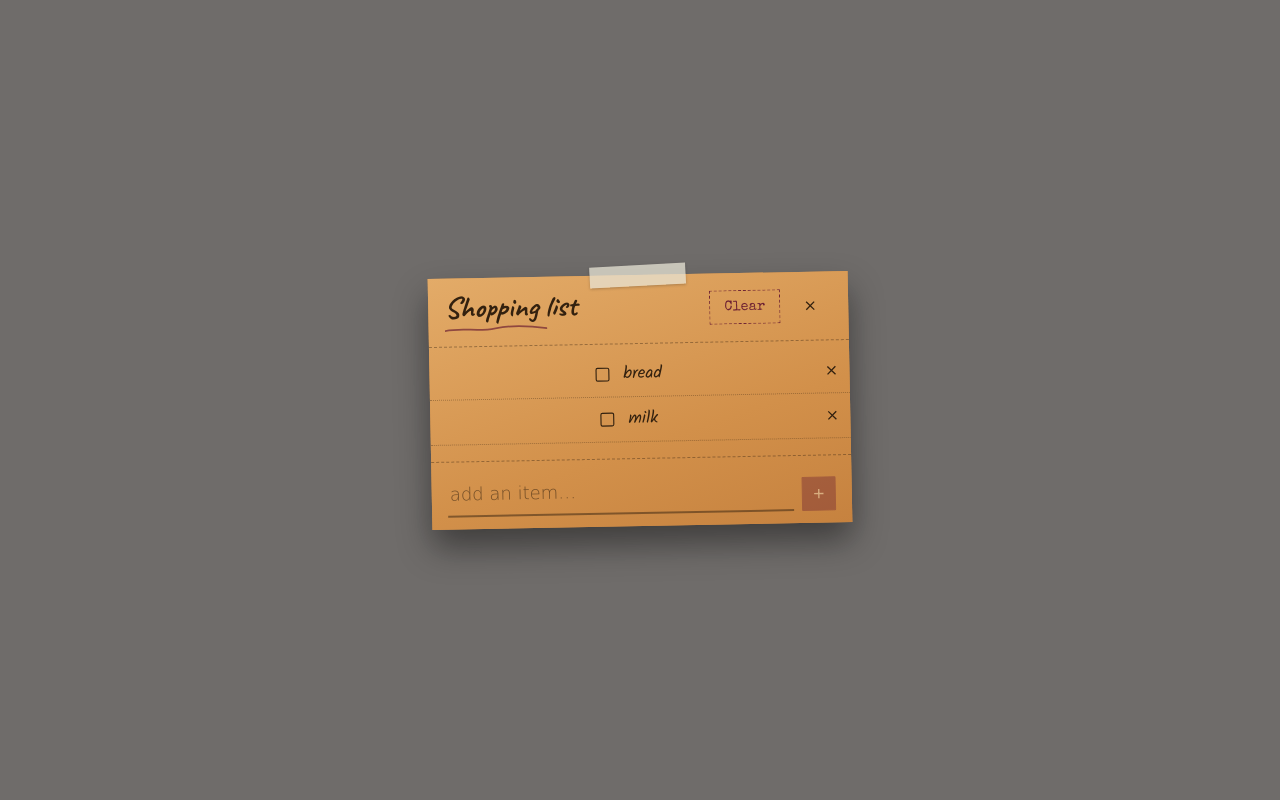
deleting one item › removes just that item
This screenshot has width=1280, height=800.
Click the button named "Delete bread": (831, 370) [817,356,846,384]
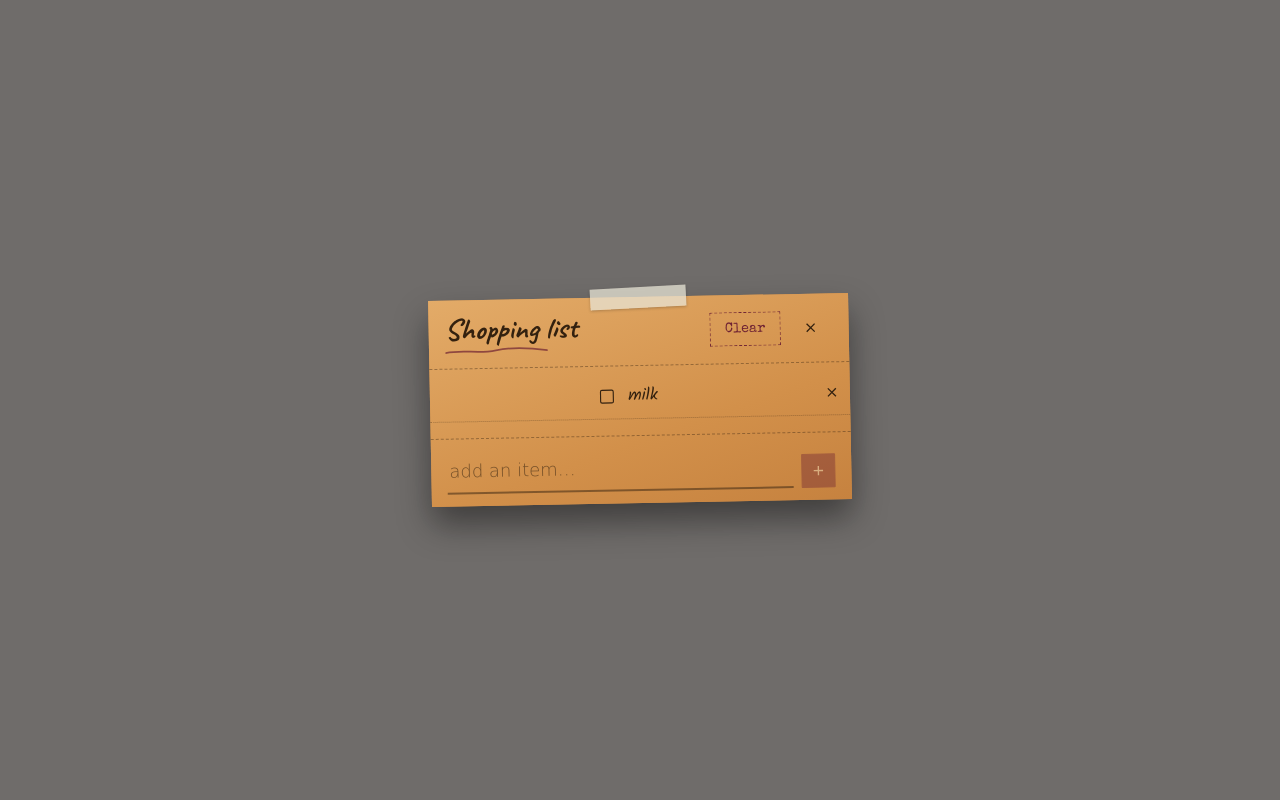
Now the elements with class "kc-body" read "milk", in this order, box [628,382,658,410]
